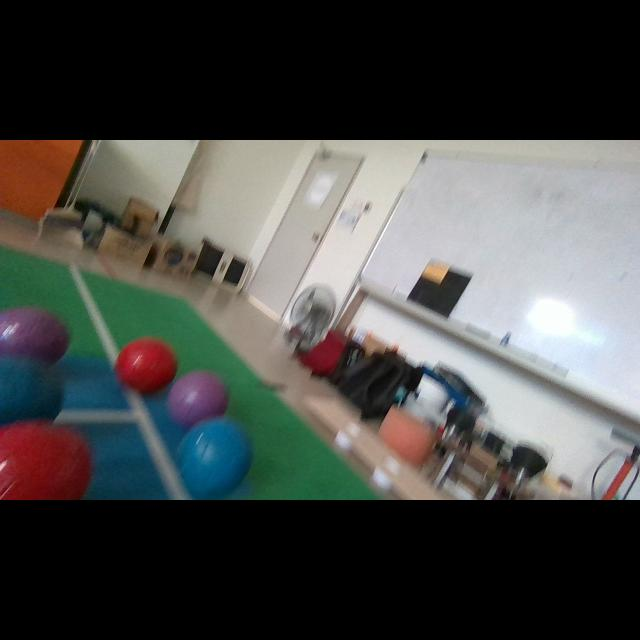B: (176, 418, 252, 499), (0, 358, 62, 424)
P: (0, 308, 69, 362), (169, 371, 226, 429)
R: (0, 421, 91, 500), (115, 338, 178, 394)
